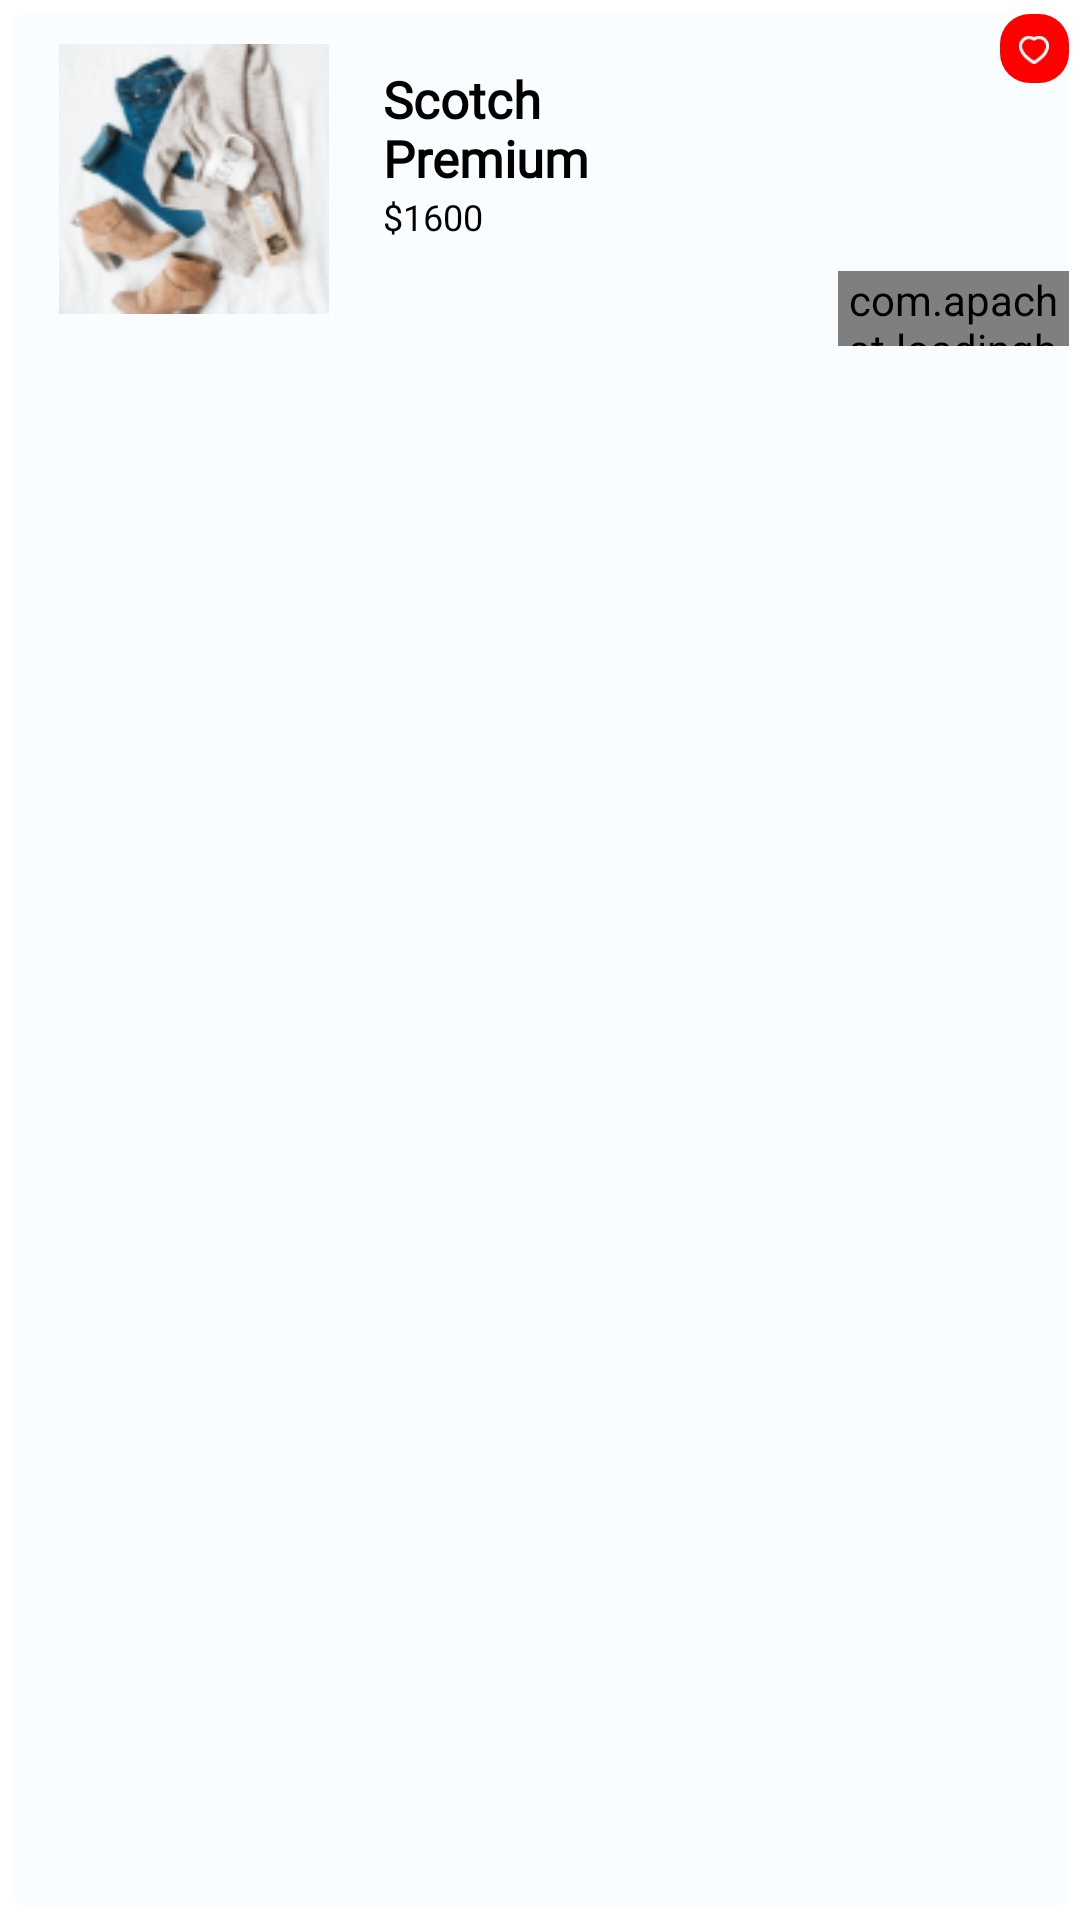

Where to tap for icons on this 1080*1920 app screen, as [x,y]:
favorite: [1034,50]
